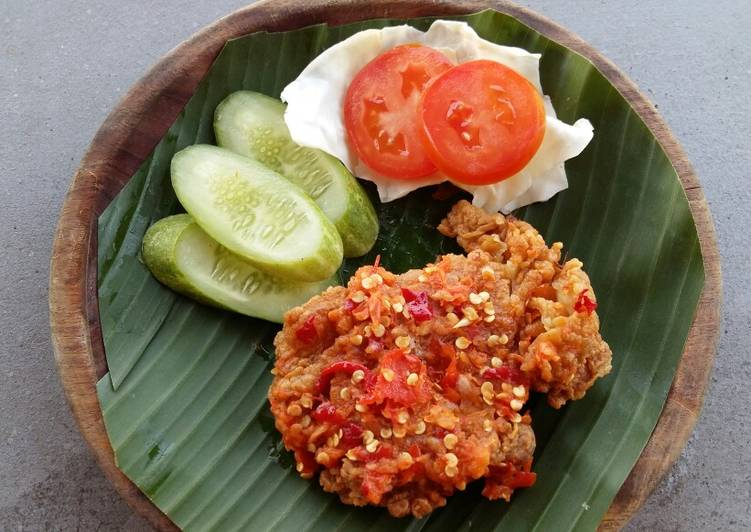ayam_geprek: (251, 222, 638, 514)
